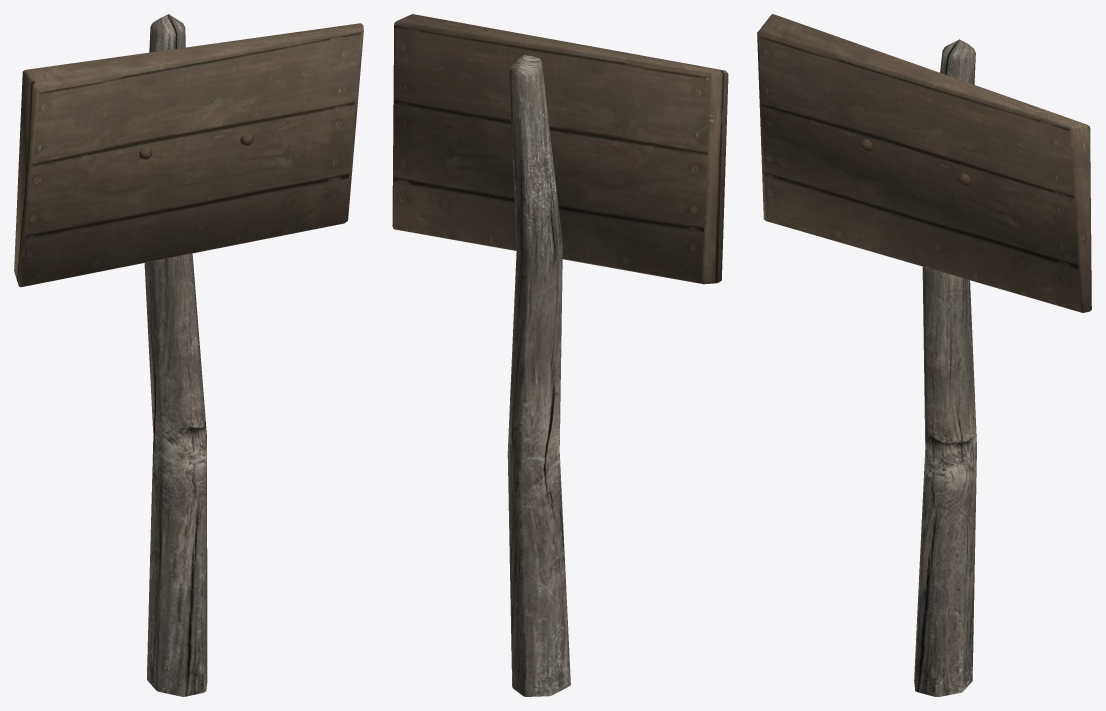
Rendered from kit_plaque_p.glb.
3 views of the same model, side by side, from view 1: azimuth 30°, elevation 25°; view 2: azimuth 150°, elevation 25°; view 3: azimuth 330°, elevation 25° (orthographic). The views are drawn at different scales.
Parts seen in each view (by area): view 1: kit_plaque_p; view 2: kit_plaque_p; view 3: kit_plaque_p.
Part boxes in pixels (box(x1,y1,x2,y2)): kit_plaque_p: box(14, 14, 363, 696); kit_plaque_p: box(392, 14, 728, 696); kit_plaque_p: box(757, 14, 1091, 696).
Bounding box in the file's own units: 0.7402 × 1.37 × 0.1863.
1 material, 1 textured.
